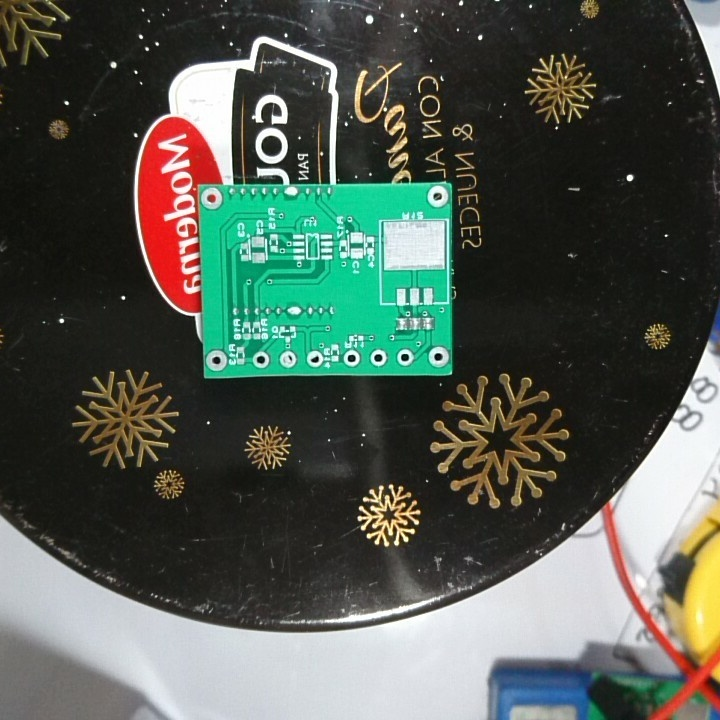F: (198, 186, 224, 212), (205, 348, 230, 375), (426, 183, 450, 210), (426, 343, 450, 369), (367, 348, 390, 370), (304, 348, 326, 370), (250, 349, 272, 370), (395, 348, 416, 369), (277, 349, 299, 369), (341, 348, 361, 369)
P: (281, 183, 299, 201), (287, 303, 304, 320)
